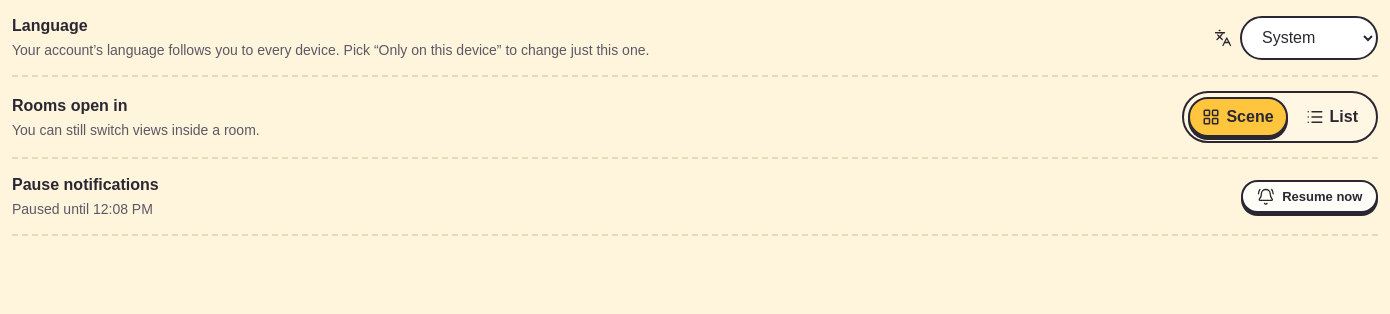
Test: 设置 › 暂停着时说到几点，可以现在恢复；保存不了时如实说
Expected: the text "Paused until 12:08 PM" is shown, left=12, top=199, right=159, bottom=220
Click the button "Resume now".
click(1310, 197)  # box left=1241, top=180, right=1378, bottom=213
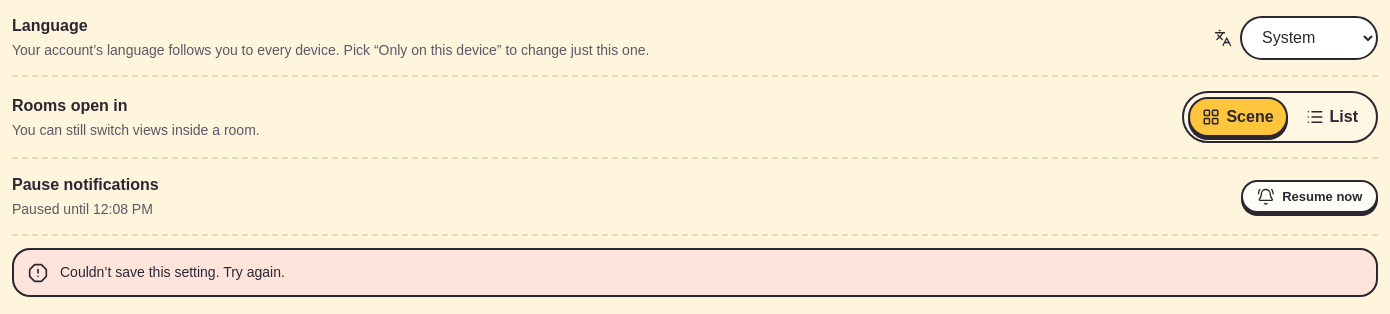
Result: the message shows "Couldn’t save this setting." at left=60, top=264, right=285, bottom=280
